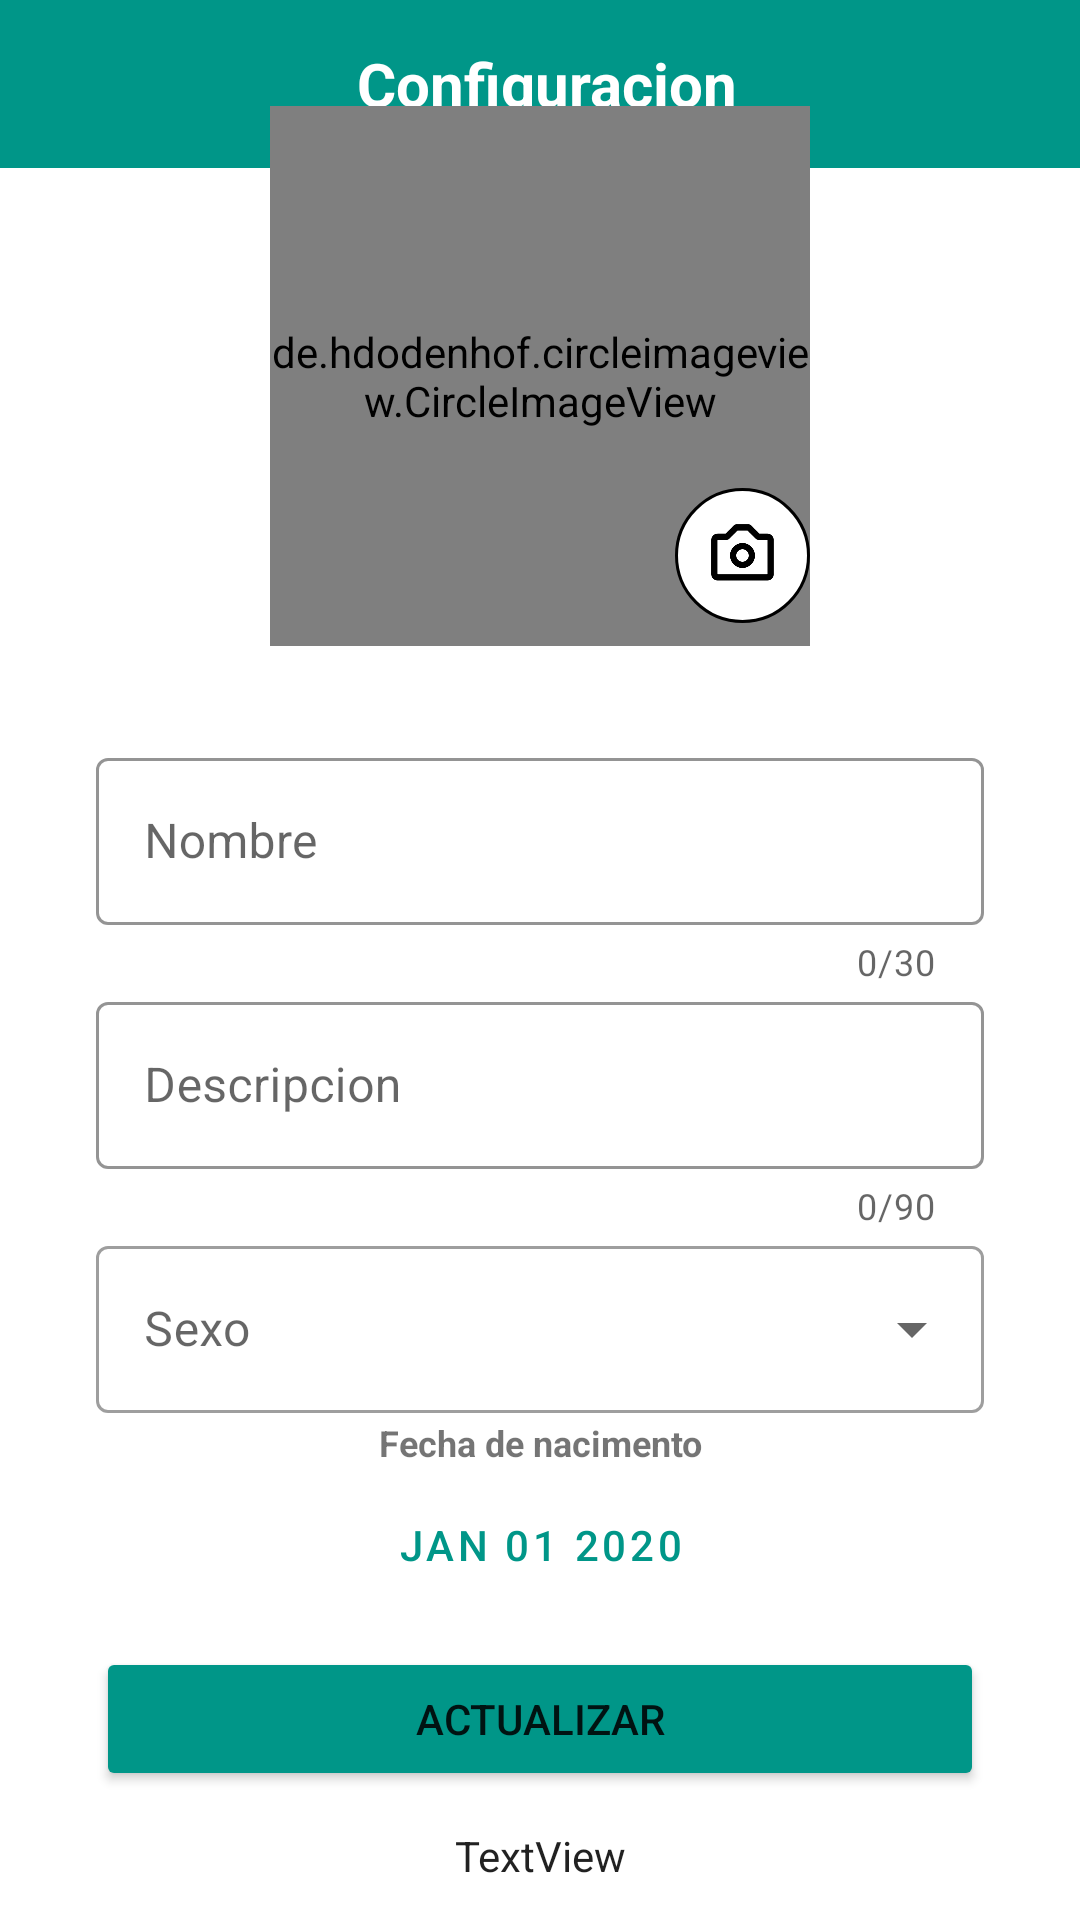

Where icons sit on this 1080*1920 app screen, as BBox(x1, y1, x2, y2):
camera: BBox(675, 488, 810, 623)
